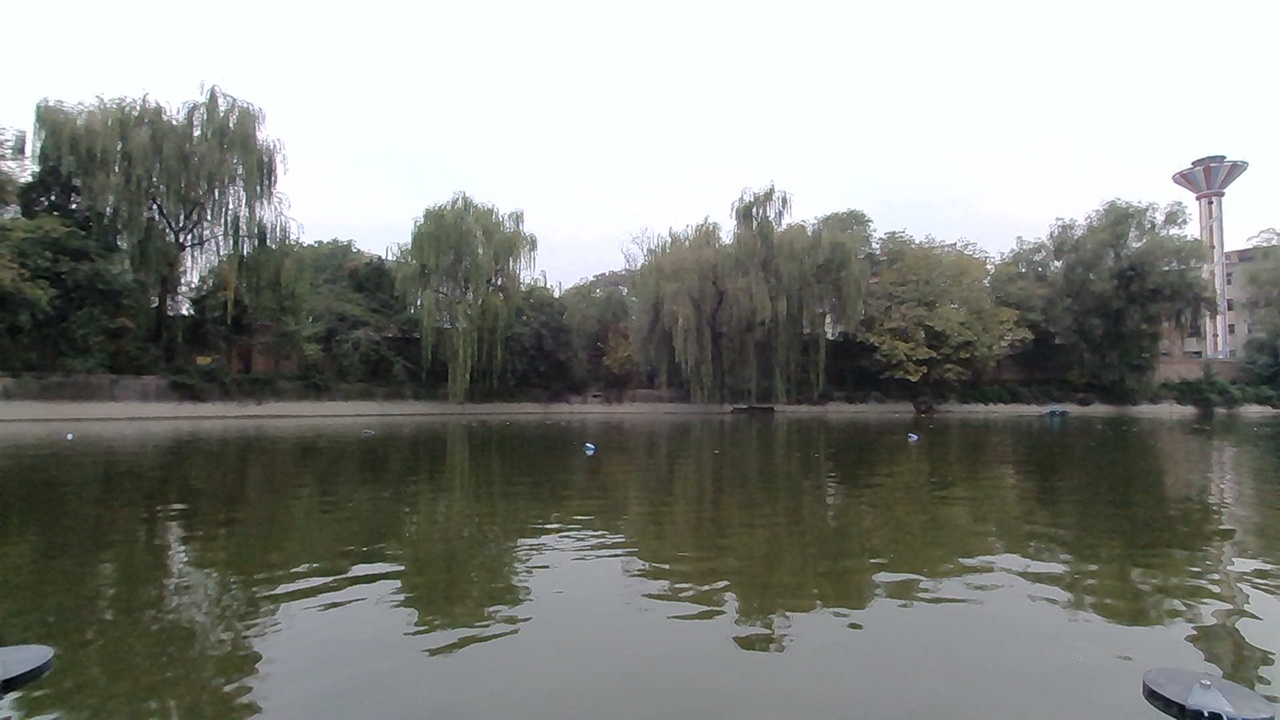bottle: (350, 417, 386, 448), (573, 433, 612, 461), (54, 422, 95, 445), (897, 425, 928, 446)
